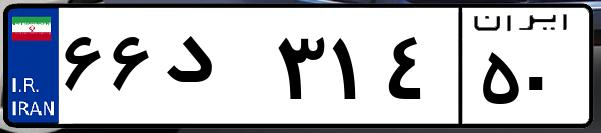0: (525, 38, 570, 115)
1: (330, 28, 385, 110)
3: (270, 28, 330, 110)
4: (385, 28, 445, 110)
5: (475, 38, 525, 113)
6: (57, 26, 110, 100), (110, 28, 158, 98)
د: (158, 20, 270, 120)
